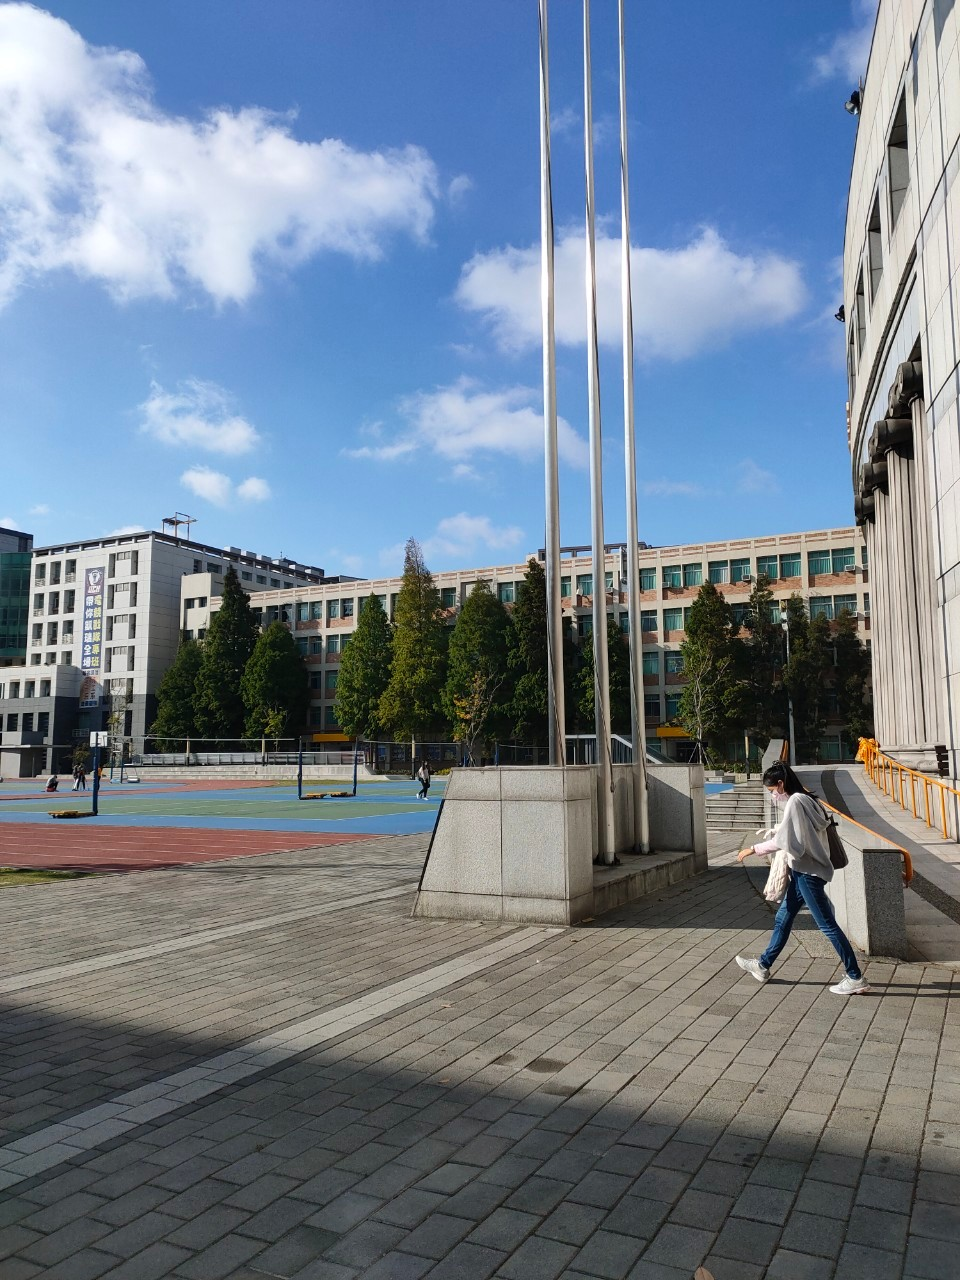people: (746, 761, 868, 998)
